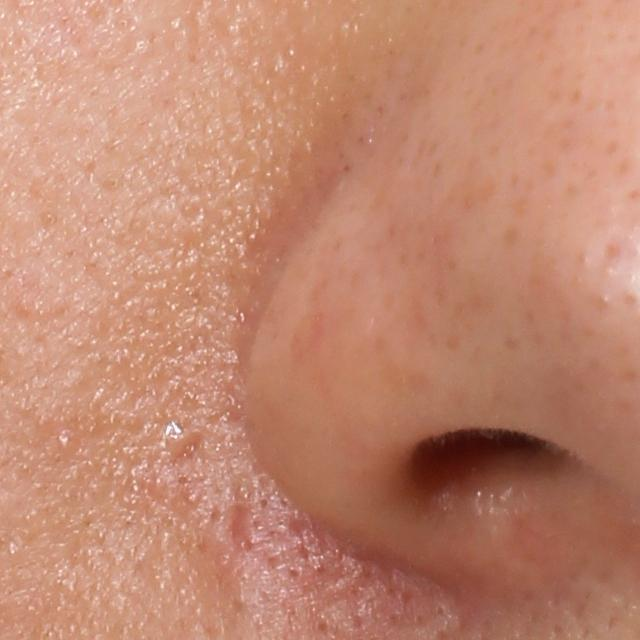atrophic_scar: (222, 494, 249, 555), (172, 432, 207, 476)
